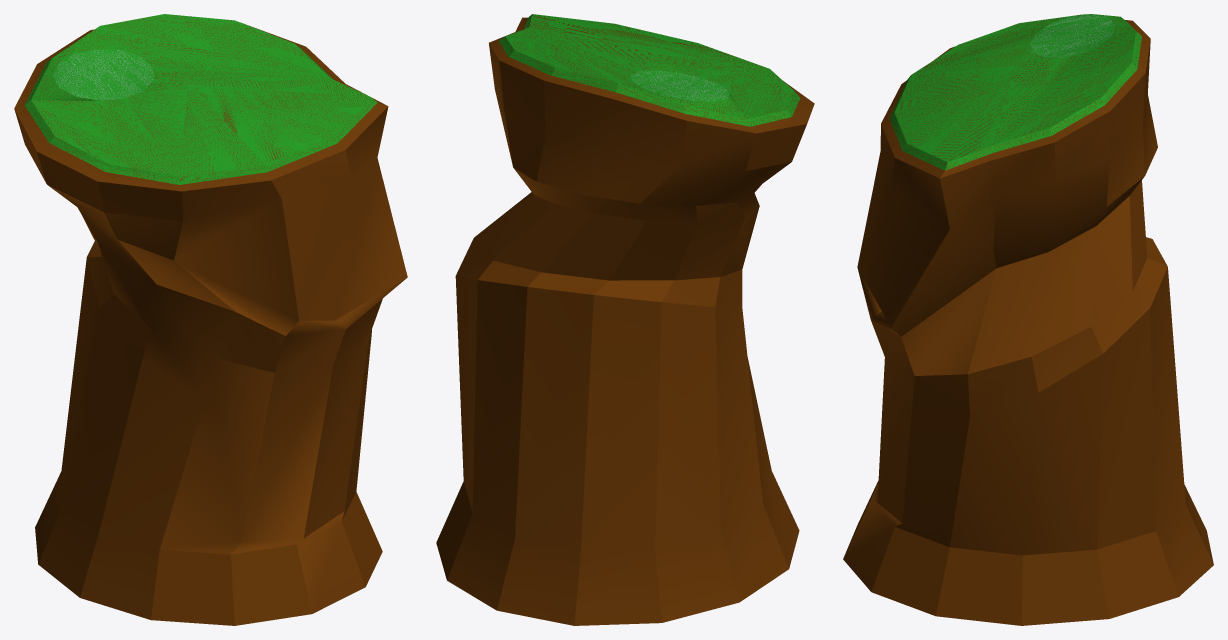
The model's file is Plateau_Grass_02.fbx.
3 renders of one model, left to right at view 1: azimuth 30°, elevation 25°; view 2: azimuth 150°, elevation 25°; view 3: azimuth 270°, elevation 25°, orthographic. The views are drawn at different scales.
Visible parts, largest first — view 1: Model; view 2: Model; view 3: Model.
Boxes of the visible parts, x1,y1,x2,y2 form: Model: [14, 14, 407, 625]; Model: [436, 14, 814, 625]; Model: [843, 14, 1213, 625].
Size of the model in its own units: 1595 by 2332 by 1579.
